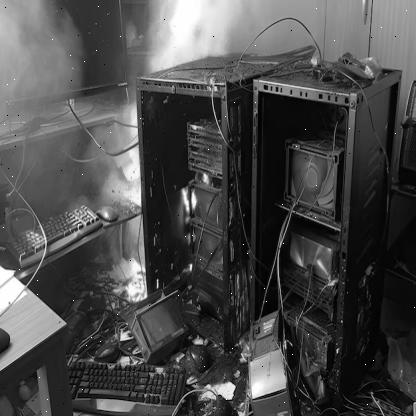fire: (113, 130, 214, 306)
smoke: (0, 0, 410, 264)
